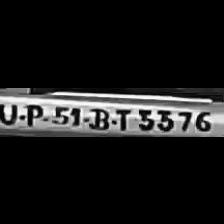1: (66, 102, 83, 125)
5: (154, 106, 174, 132), (48, 102, 70, 124), (134, 106, 154, 130)
6: (191, 108, 213, 132)
7: (174, 108, 192, 132)
B: (83, 104, 111, 130)
P: (19, 101, 45, 125)
T: (111, 106, 133, 130)
U: (0, 100, 20, 124)
